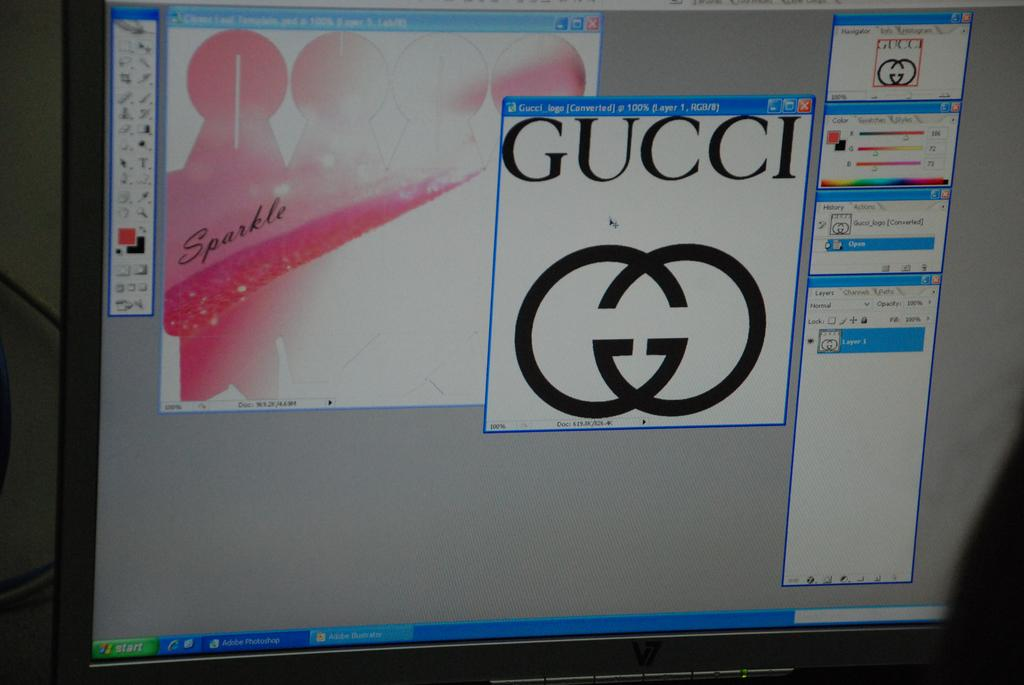Laptop: (54, 0, 1021, 683)
